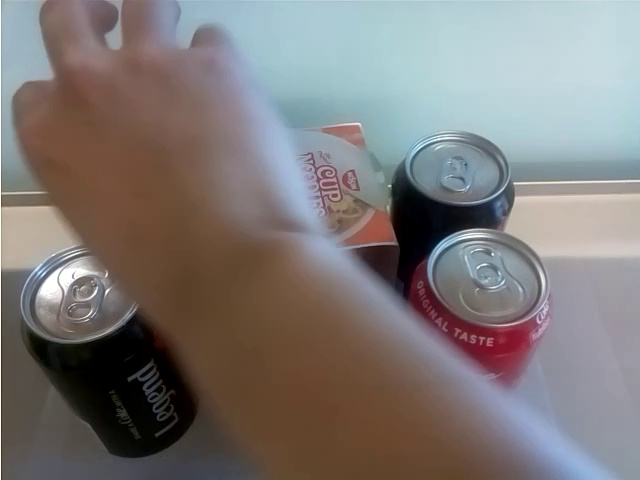cocacola: (407, 231, 551, 388)
cocacola-zero: (17, 243, 200, 463), (393, 132, 513, 239)
hand: (7, 1, 329, 275)
noodles: (287, 117, 402, 285)
